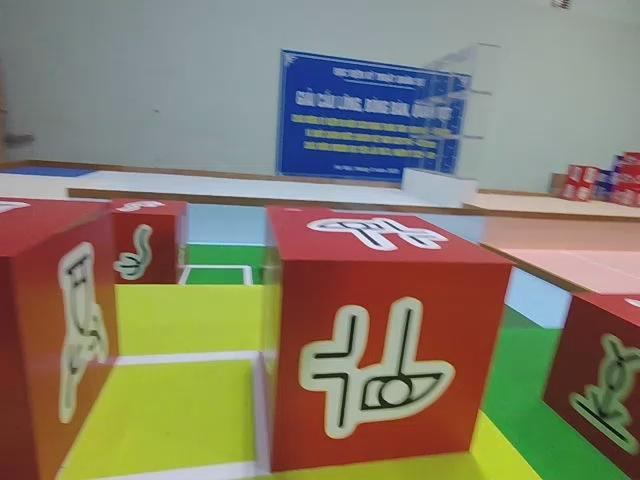R2 Real: (257, 199, 518, 476), (0, 193, 120, 480), (539, 289, 640, 480), (101, 193, 189, 287)
